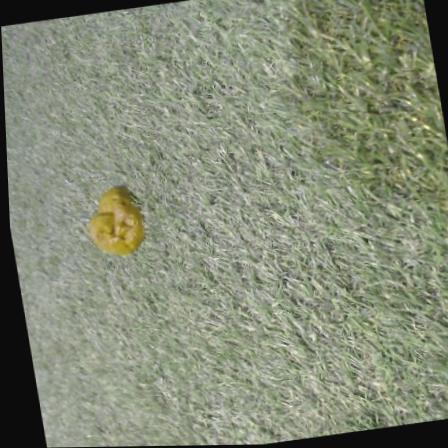dog-poop: (74, 180, 150, 266)
